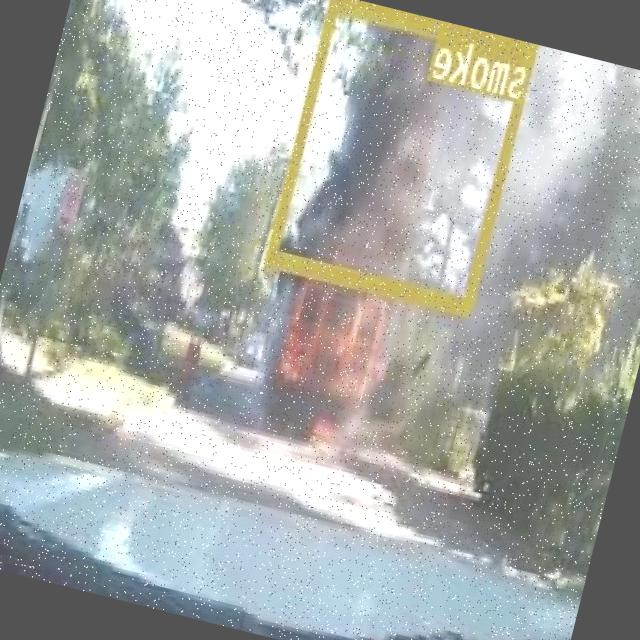smoke: (267, 0, 541, 315)
